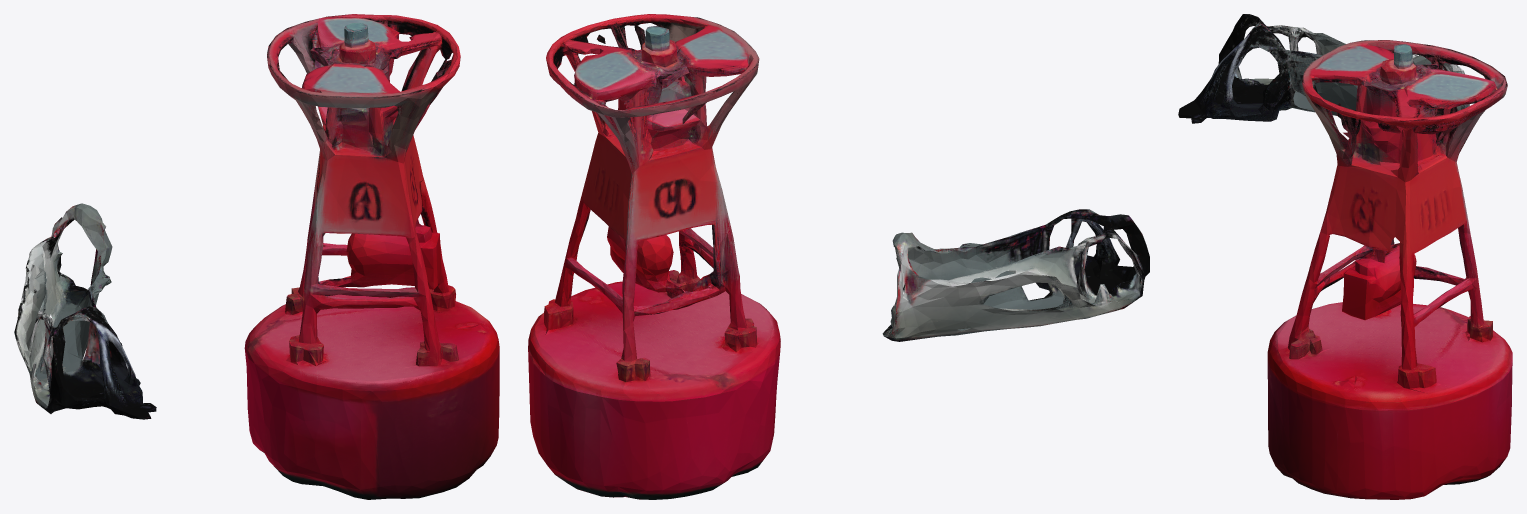
File: kırmızı_duba39.glb
3 views of the same model, side by side, from view 1: azimuth 30°, elevation 25°; view 2: azimuth 150°, elevation 25°; view 3: azimuth 270°, elevation 25° (orthographic). The views are drawn at different scales.
Parts seen in each view (by area): view 1: world; view 2: world; view 3: world.
Boxes of the visible parts, left/top/right/bottom form: world: left=14, top=14, right=499, bottom=499; world: left=528, top=14, right=1149, bottom=499; world: left=1178, top=14, right=1512, bottom=499.
Bounding box in the file's own units: 0.6552 × 0.5218 × 0.3849.
1 material, 1 textured.
